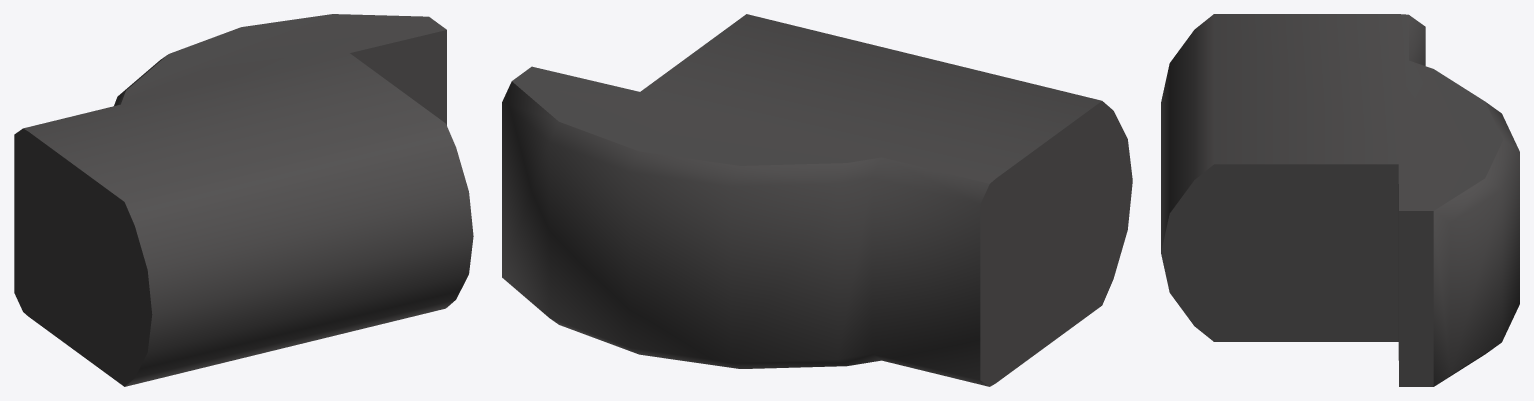
File: LHipRoll.dae
3 views of the same model, side by side, from view 1: azimuth 30°, elevation 25°; view 2: azimuth 150°, elevation 25°; view 3: azimuth 270°, elevation 25° (orthographic). The views are drawn at different scales.
Visible parts, largest first — view 1: LHipRoll; view 2: LHipRoll; view 3: LHipRoll.
Boxes of the visible parts, <box> form: LHipRoll: <box>14,14,473,386</box>; LHipRoll: <box>502,14,1132,386</box>; LHipRoll: <box>1161,14,1519,386</box>.
Bounding box in the file's own units: 0.6688 × 0.2822 × 0.5172.
1 material, 1 textured.
